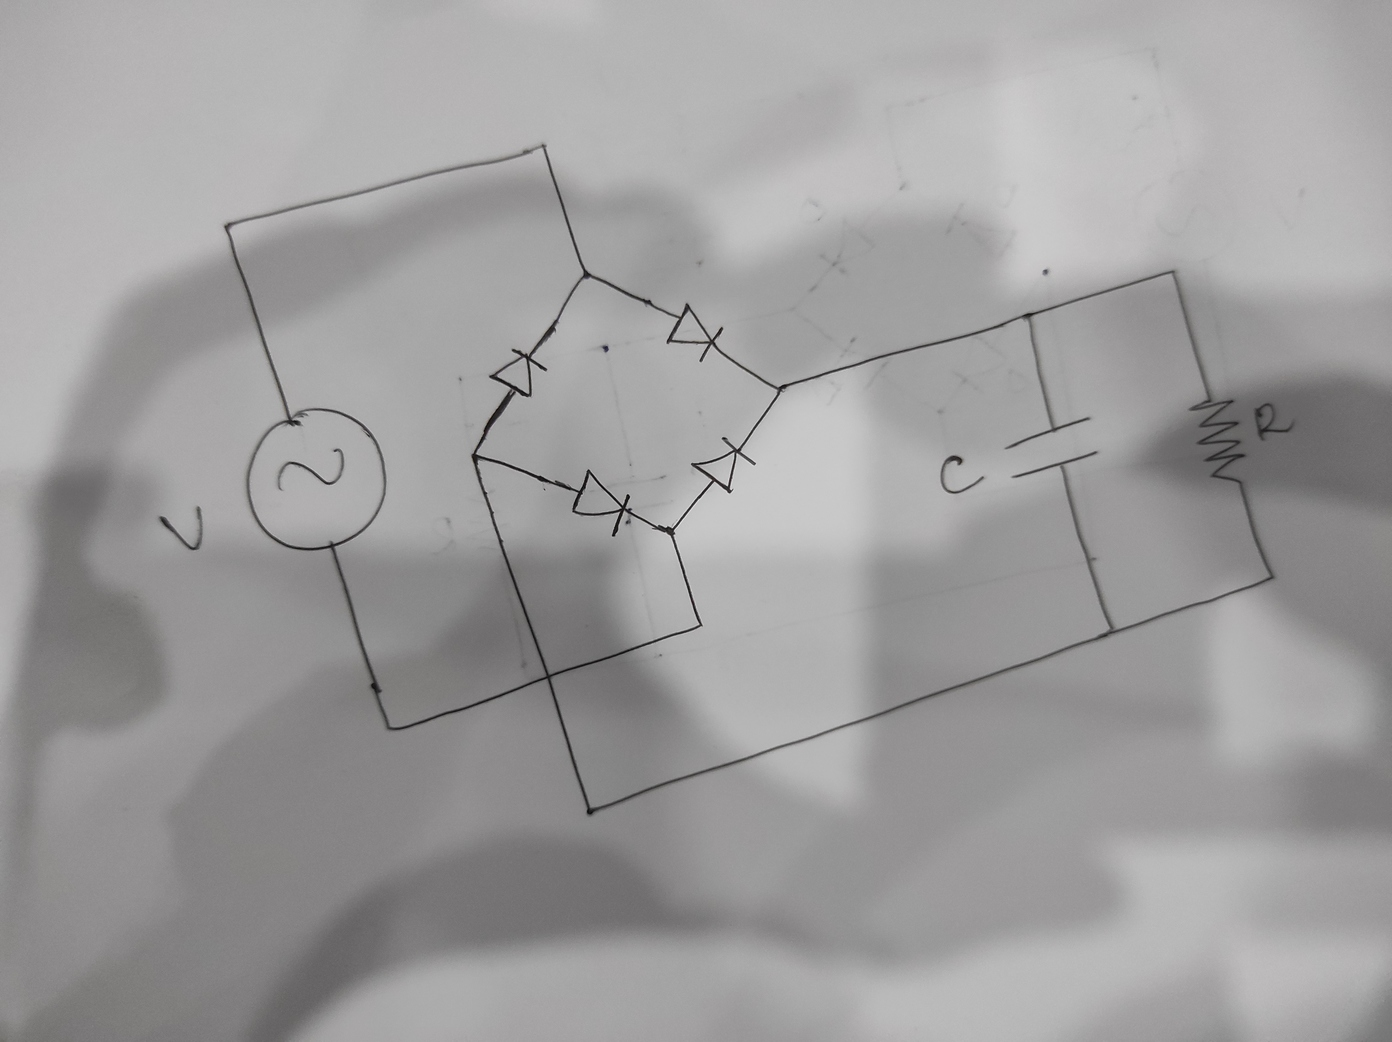capacitor.unpolarized: (999, 414, 1102, 481)
crossover: (534, 660, 565, 691)
diode: (569, 467, 636, 539), (689, 432, 757, 494), (661, 301, 726, 364), (487, 346, 548, 401)
junction: (1091, 612, 1128, 649), (1254, 563, 1287, 590), (376, 717, 407, 739), (572, 264, 598, 289), (465, 442, 489, 468), (1160, 260, 1183, 287), (765, 378, 790, 401), (217, 215, 240, 239), (658, 519, 683, 541), (578, 799, 602, 821), (688, 613, 708, 637), (530, 138, 552, 157), (1018, 306, 1039, 324)
resistor: (1184, 393, 1250, 486)
text: (156, 503, 207, 554), (938, 450, 986, 498), (1252, 400, 1294, 441)
voltage.dc_ac: (239, 403, 391, 555)
